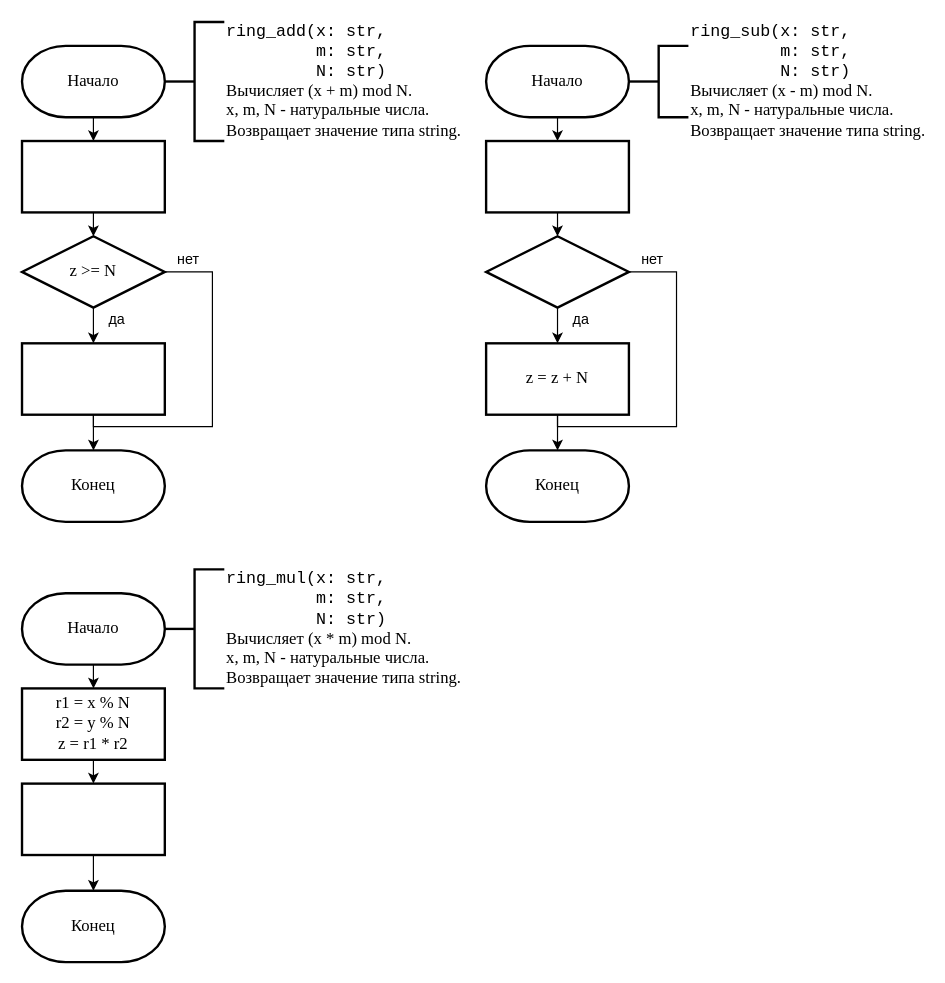
Some shapes in this 945 by 983 pixel diagram are drawn without their labels. Each missing label, with the box of its shape:
r1 = x % N r2 = y % N z = r1 + r2: (20, 139, 165, 213)
r1 = x % N r2 = y % N z = r1 - r2: (484, 139, 630, 213)
z < 0: (484, 234, 630, 308)
z = z % N: (20, 782, 165, 856)
z = z - N: (20, 342, 165, 415)
